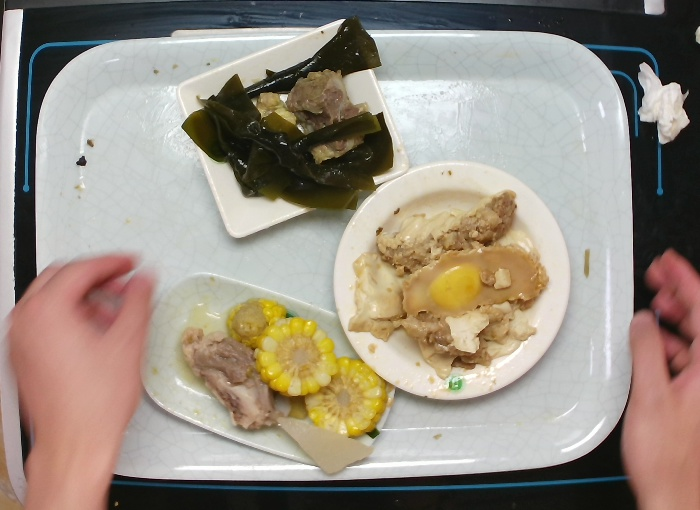WCQzf-Bai_Se_Si_Fang_Die: (174, 11, 406, 249)
WCQzf-Kuan_Bian_Yuan_Die: (326, 155, 575, 404)
WCQzf-Tuo_Yuan_Pan: (146, 262, 406, 471)
